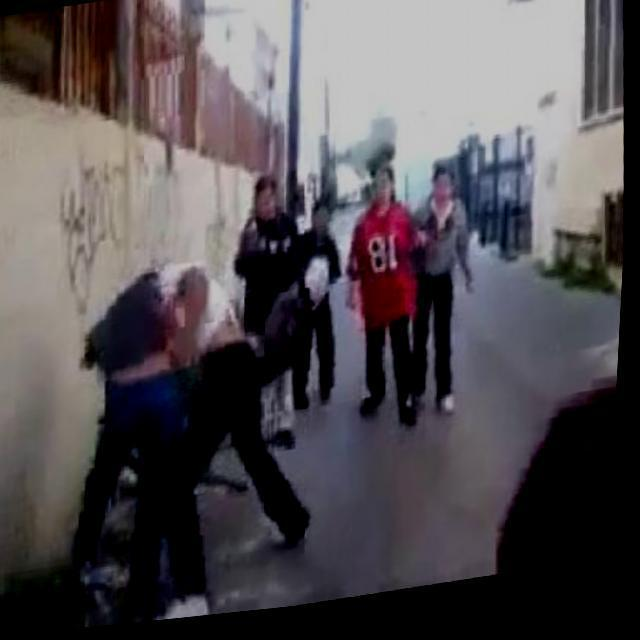fight: (67, 245, 328, 632)
